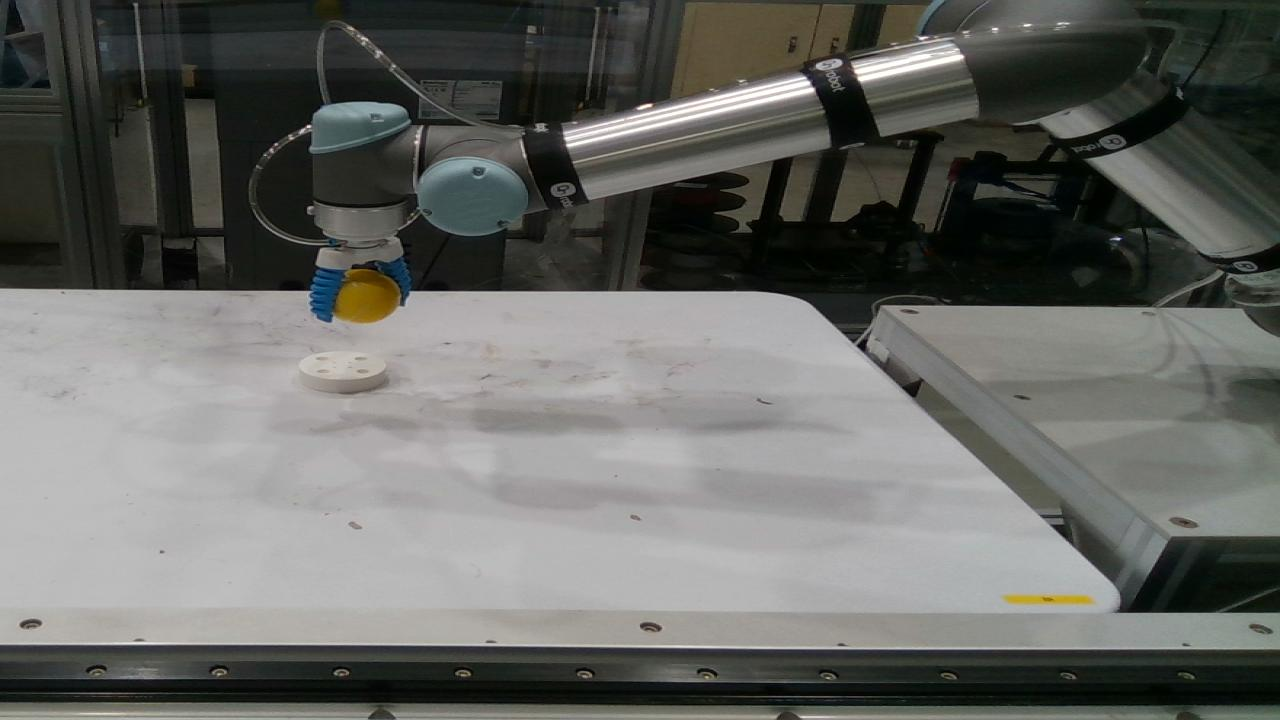UR5: (310, 0, 1279, 335)
gripper_left: (377, 256, 410, 306)
gripper_right: (309, 269, 346, 323)
target: (327, 269, 401, 323), (299, 351, 388, 394)
